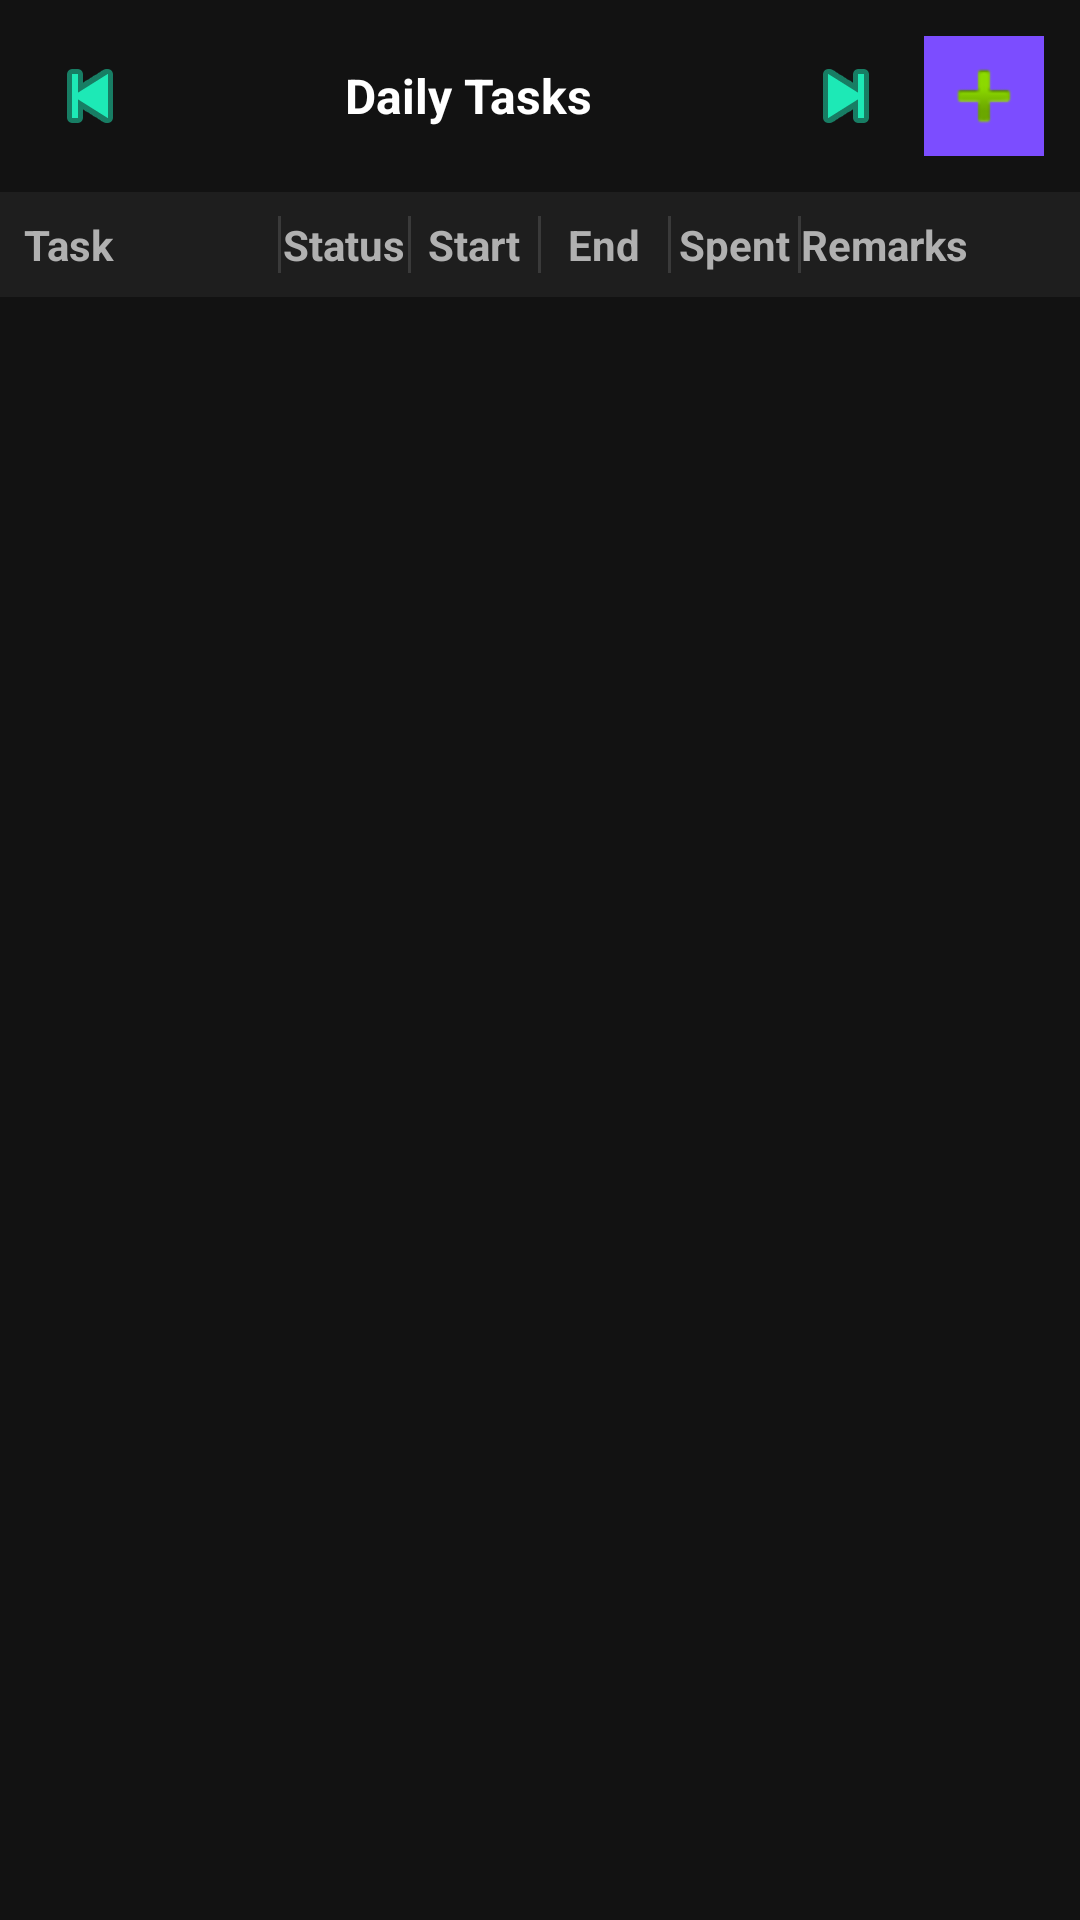

Locate icon controls on the screen. Image size 1080×1920, boxes as [x1, y1, x2, y2].
Add task: [924, 36, 1044, 156]
Next day: [823, 69, 869, 123]
Previous day: [67, 69, 113, 123]
